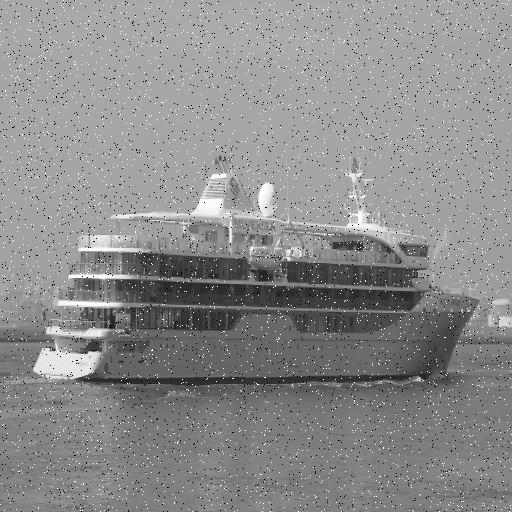cruises: (31, 151, 483, 394)
